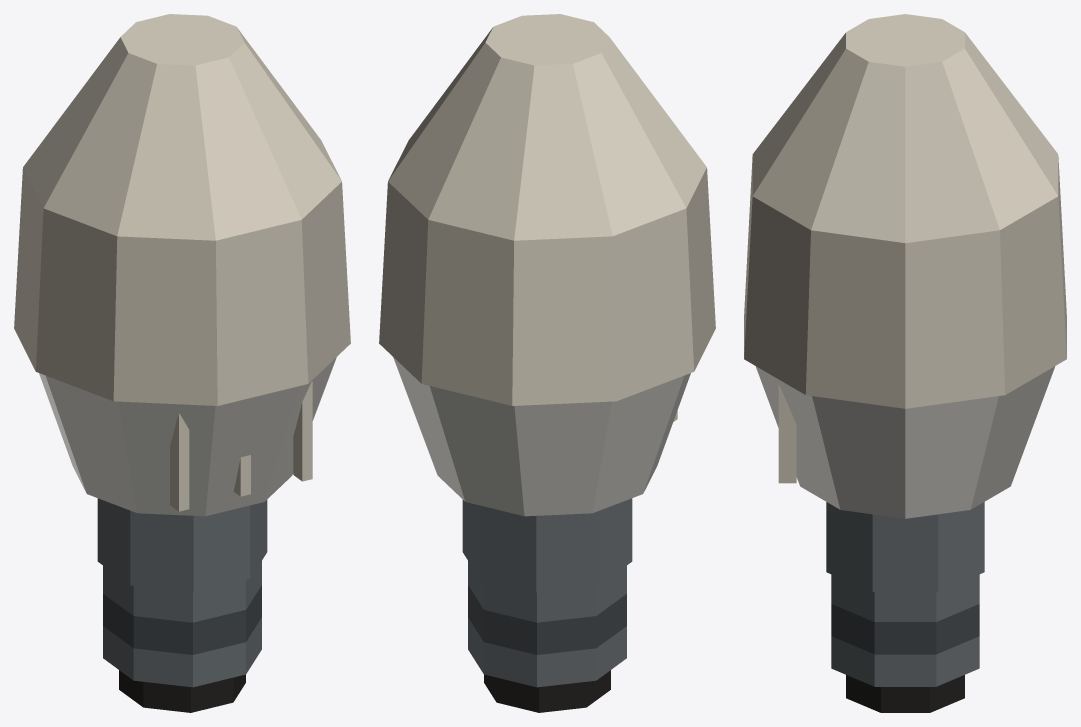
The model's file is lightbulb_svetodiodnaya_idle.glb.
3 renders of one model, left to right at view 1: azimuth 30°, elevation 25°; view 2: azimuth 150°, elevation 25°; view 3: azimuth 270°, elevation 25°, orthographic.
Visible parts, largest first — view 1: lightbulb_svetodiodnaya_idle; view 2: lightbulb_svetodiodnaya_idle; view 3: lightbulb_svetodiodnaya_idle.
Part boxes in pixels (x1=…): lightbulb_svetodiodnaya_idle: x1=14, y1=14, x2=350, y2=712; lightbulb_svetodiodnaya_idle: x1=379, y1=14, x2=715, y2=712; lightbulb_svetodiodnaya_idle: x1=744, y1=14, x2=1066, y2=712.
Bounding box in the file's own units: 0.057 × 0.12 × 0.0542.
1 material, 1 textured.
